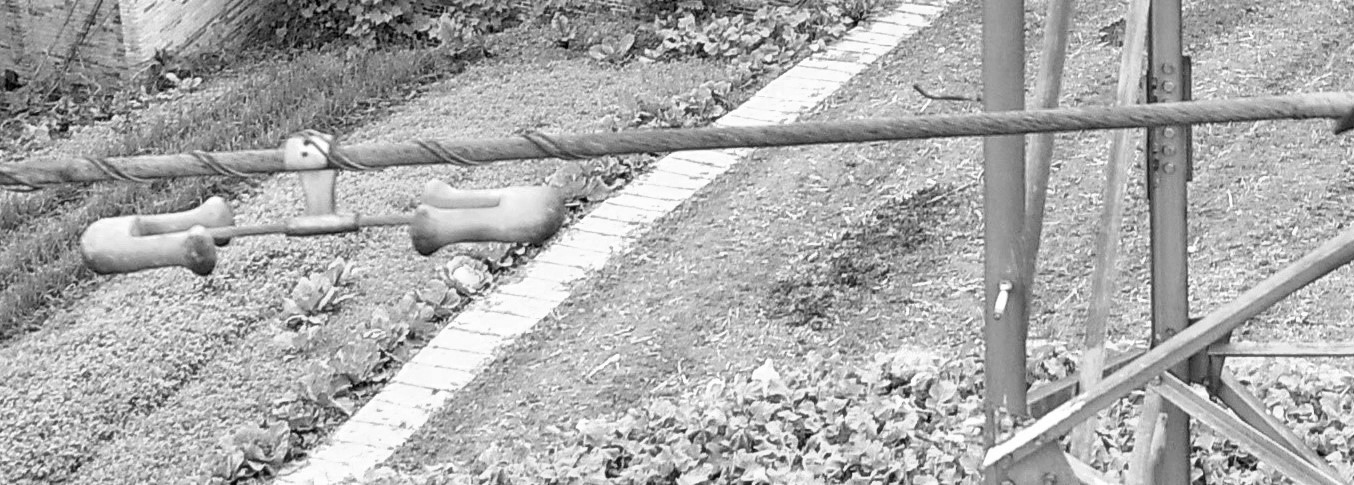Shockproof hammer: (66, 114, 570, 291)
